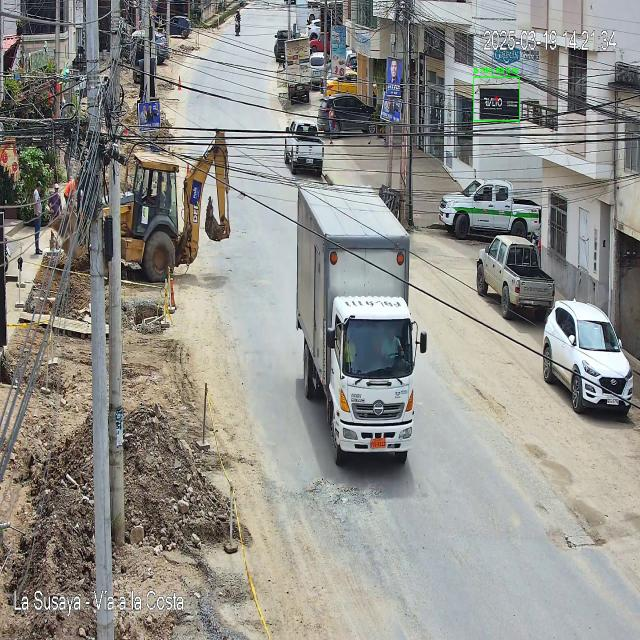TRUCK: (297, 186, 423, 472)
